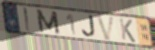1: (66, 14, 77, 36)
I: (22, 7, 32, 33)
J: (81, 15, 96, 39)
K: (118, 17, 137, 44)
M: (35, 8, 61, 36)
V: (94, 14, 116, 42)
